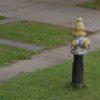Hydrant: (60, 9, 96, 95)
